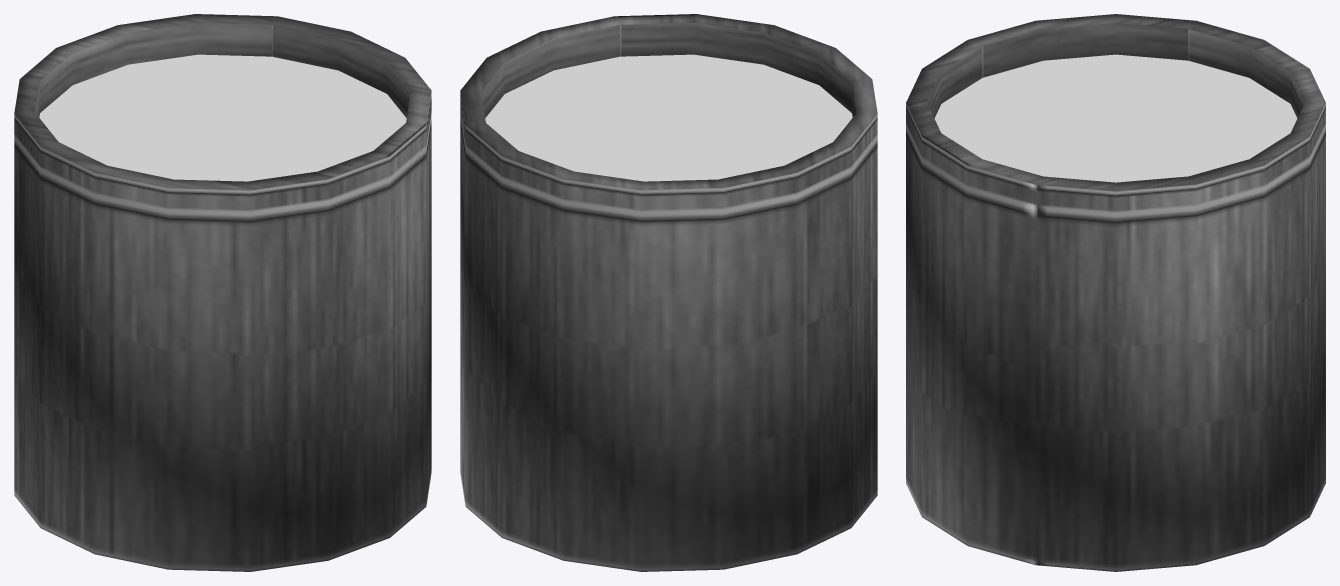
The model's file is Paint.fbx.
The picture shows the model from 3 angles, left to right: view 1: azimuth 30°, elevation 25°; view 2: azimuth 150°, elevation 25°; view 3: azimuth 270°, elevation 25°; orthographic projection.
Parts seen in each view (by area): view 1: PaintBucket, Paint; view 2: PaintBucket, Paint; view 3: PaintBucket, Paint.
Part boxes in pixels (bbox=[...]): PaintBucket: bbox=[14, 14, 431, 571]; Paint: bbox=[39, 54, 406, 181]; PaintBucket: bbox=[460, 14, 877, 571]; Paint: bbox=[485, 54, 852, 181]; PaintBucket: bbox=[906, 14, 1325, 571]; Paint: bbox=[934, 54, 1297, 182].
Bounding box in the file's own units: 24 × 24 × 24.
